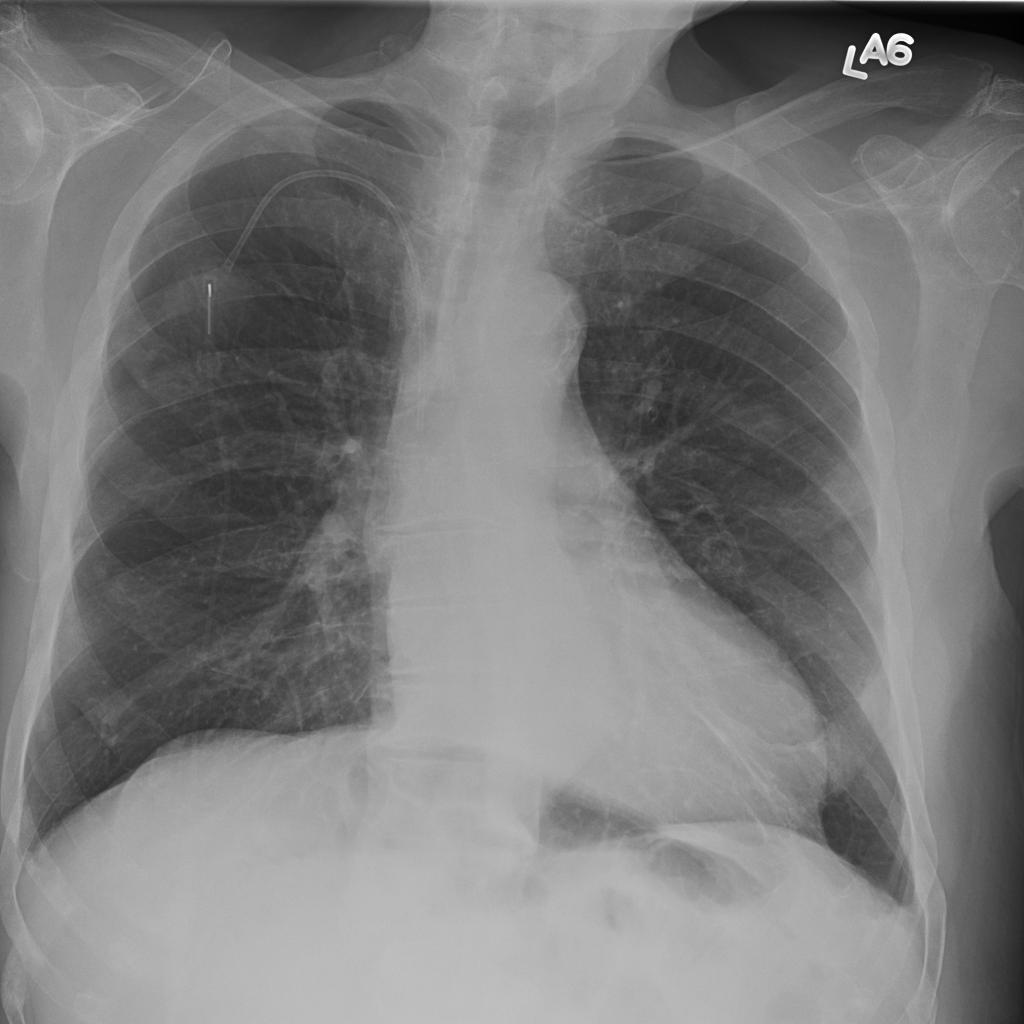Nodule: (284, 335, 324, 372), (87, 249, 122, 281), (71, 143, 106, 175)
